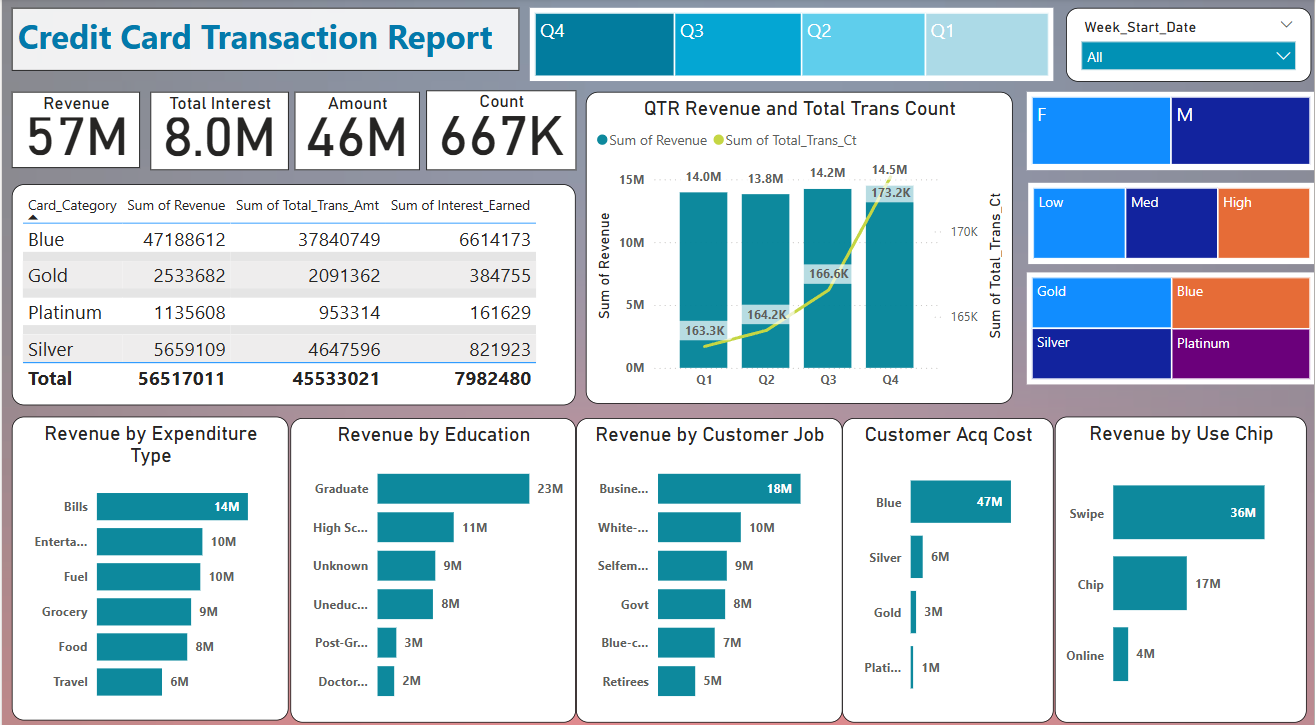

Layout of this report page (visuals, bound fields, positions):
{"tool":"powerbi","page":{"name":"CC_Trans","canvas":[1280,720],"ordinal":1},"visuals":[{"type":"textbox","box":[10,10,495.2,61.7],"z":0},{"type":"lineStackedColumnComboChart","title":"QTR Revenue and Total Trans Count","fields":{"Category":["credit_detail.Qtr"],"Y":["Sum(credit_detail.Revenue)"],"Y2":["Sum(credit_detail.Total_Trans_Ct)"]},"box":[569.9,91.9,416.3,304.3],"z":1000},{"type":"barChart","title":"Revenue by Expenditure Type","fields":{"Y":["Sum(credit_detail.Revenue)"],"Category":["credit_detail.Exp_Type"]},"box":[10,408.3,270,296.7],"z":2000},{"type":"barChart","title":"Revenue by Education","fields":{"Y":["Sum(credit_detail.Revenue)"],"Category":["cust_detail.Education_Level"]},"box":[281.3,409.1,278.5,297.1],"z":3000},{"type":"barChart","title":"Revenue by Customer Job","fields":{"Y":["Sum(credit_detail.Revenue)"],"Category":["cust_detail.Customer_Job"]},"box":[559.8,409.1,259.8,297.1],"z":4000},{"type":"barChart","title":"Customer Acq Cost","fields":{"Y":["Sum(credit_detail.Revenue)"],"Category":["credit_detail.Card_Category"]},"box":[819.6,409.1,206.7,297.1],"z":5000},{"type":"barChart","title":"Revenue by Use Chip","fields":{"Y":["Sum(credit_detail.Revenue)"],"Category":["credit_detail.Use_Chip"]},"box":[1026.3,407.7,245.5,298.6],"z":6000},{"type":"tableEx","fields":{"Values":["credit_detail.Card_Category","Sum(credit_detail.Revenue)","Sum(credit_detail.Total_Trans_Amt)","Sum(credit_detail.Interest_Earned)"]},"box":[10.1,181.4,549.8,215.9],"z":7000},{"type":"card","title":"Revenue","fields":{"Values":["Sum(credit_detail.Revenue)"]},"box":[10,91.9,124.9,74.6],"z":8000},{"type":"card","title":"Total Interest","fields":{"Values":["Sum(credit_detail.Interest_Earned)"]},"box":[145,91.9,134.9,76.1],"z":9000},{"type":"card","title":"Amount","fields":{"Values":["Sum(credit_detail.Total_Trans_Amt)"]},"box":[285.6,91.9,122,76.1],"z":10000},{"type":"card","title":"Count","fields":{"Values":["Sum(credit_detail.Total_Trans_Ct)"]},"box":[413.4,90.4,146.4,77.5],"z":11000},{"type":"slicer","fields":{"Values":["credit_detail.Week_Start_Date"]},"box":[1037.8,10.1,238.9,72],"z":12000},{"type":"treemap","fields":{"Group":["credit_detail.Qtr"],"Values":["Avg(credit_detail.Client_Num)"]},"box":[515.3,10,511,71.8],"z":13000},{"type":"treemap","fields":{"Group":["cust_detail.Gender"],"Values":["Avg(credit_detail.Client_Num)"]},"box":[999.1,91.9,281.3,76.1],"z":14000},{"type":"treemap","fields":{"Group":["credit_detail.Card_Category"],"Values":["Avg(credit_detail.Client_Num)"]},"box":[999.1,267,281.3,109.1],"z":15000},{"type":"treemap","fields":{"Group":["cust_detail.IncomeGroup"],"Values":["Avg(credit_detail.Client_Num)"]},"box":[1000.5,180.9,279.9,78.9],"z":16000}]}

Visuals, with their boxes in screenshot pixels (x1, y1, x2, y2), scaled from the page's 1280x720 canvas onto the 1316x725 screenshot:
textbox: 10,10,519,72
"QTR Revenue and Total Trans Count" lineStackedColumnComboChart: 586,93,1014,399
"Revenue by Expenditure Type" barChart: 10,411,288,710
"Revenue by Education" barChart: 289,412,576,711
"Revenue by Customer Job" barChart: 576,412,843,711
"Customer Acq Cost" barChart: 843,412,1055,711
"Revenue by Use Chip" barChart: 1055,411,1308,711
tableEx - credit_detail.Card_Category x Sum(credit_detail.Revenue): 10,183,576,400
"Revenue" card: 10,93,139,168
"Total Interest" card: 149,93,288,169
"Amount" card: 294,93,419,169
"Count" card: 425,91,576,169
slicer - credit_detail.Week_Start_Date: 1067,10,1313,83
treemap - credit_detail.Qtr x Avg(credit_detail.Client_Num): 530,10,1055,82
treemap - cust_detail.Gender x Avg(credit_detail.Client_Num): 1027,93,1315,169
treemap - credit_detail.Card_Category x Avg(credit_detail.Client_Num): 1027,269,1315,379
treemap - cust_detail.IncomeGroup x Avg(credit_detail.Client_Num): 1029,182,1315,262
